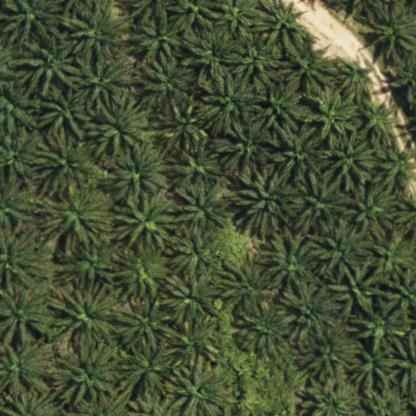Palm Oil: (33, 183, 115, 255), (58, 334, 124, 412), (232, 165, 300, 240), (82, 85, 149, 160), (112, 292, 188, 358), (46, 281, 123, 345), (306, 213, 375, 282), (13, 33, 86, 97), (195, 72, 267, 136), (30, 128, 92, 202), (258, 226, 320, 300), (111, 187, 180, 252), (118, 336, 183, 405), (109, 236, 175, 303), (106, 140, 172, 206), (250, 72, 314, 140), (63, 1, 129, 66), (287, 168, 349, 236), (134, 52, 198, 117), (217, 250, 281, 313), (162, 269, 224, 334), (180, 22, 245, 84), (281, 278, 343, 343), (296, 327, 363, 387), (278, 29, 338, 96), (329, 259, 390, 324), (341, 182, 401, 247), (231, 301, 292, 364), (165, 223, 221, 291), (349, 296, 412, 356), (127, 7, 188, 68), (213, 116, 277, 174), (321, 128, 378, 193), (228, 23, 285, 86), (73, 55, 132, 115), (34, 84, 96, 141), (168, 137, 224, 200), (269, 118, 324, 182), (176, 176, 232, 238), (164, 316, 222, 375), (303, 82, 362, 140), (345, 342, 405, 398), (59, 238, 116, 295), (154, 95, 208, 155), (364, 225, 415, 286), (333, 52, 377, 107), (356, 98, 402, 147), (374, 144, 416, 187)
